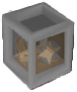mysterybox: (1, 1, 77, 90)
